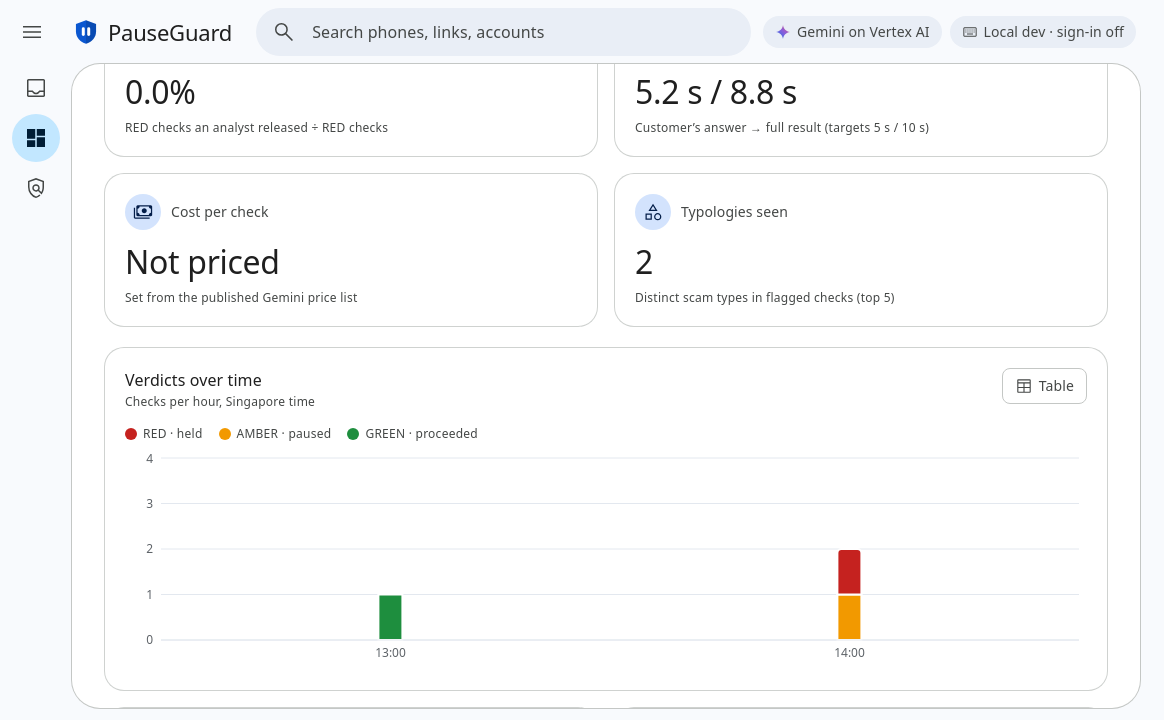
Scenario: the dashboard shows the KPI tiles and switches range
(page scrolled)
Check: the text "5.2 s / 8.8 s" is shown, box [635,70,797,113]
Check: the text "Not priced" is shown, box [125,240,280,283]
Step 1. Click the button with aria-label "Table view of Verdicts over time" → (1044,386), box [1002,368,1087,404]
(page scrolled)
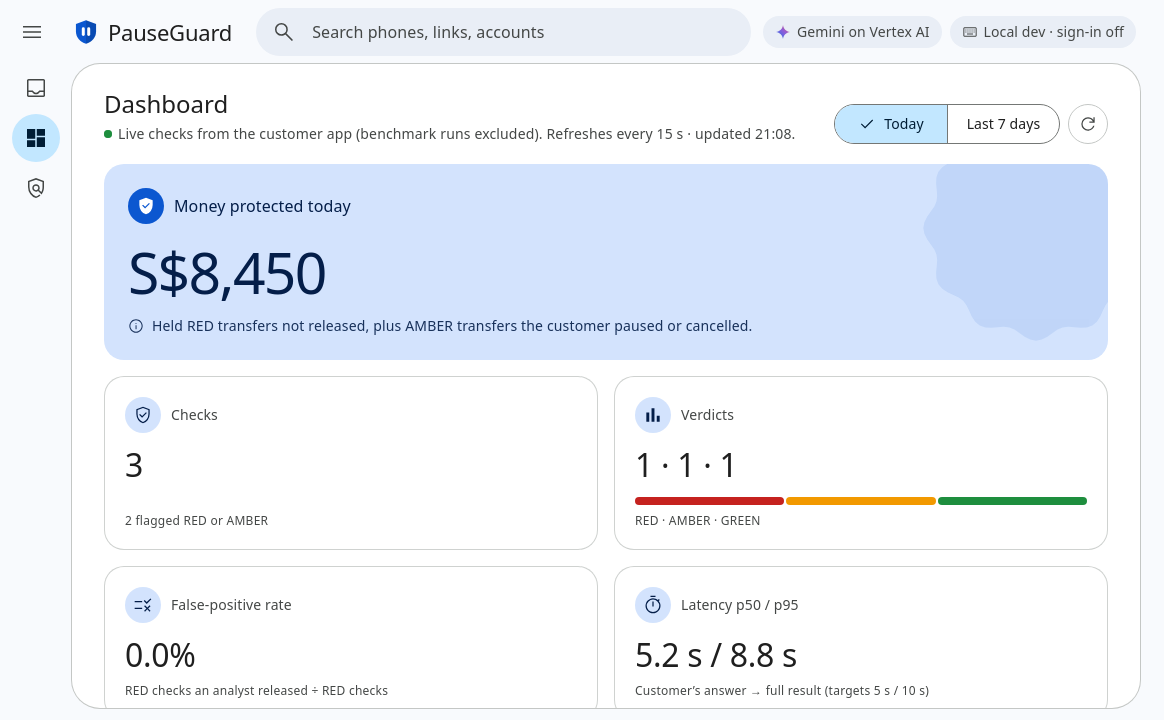
Step 2. Click the button "Last 7 days" → (1003,124), box [947,105,1059,143]
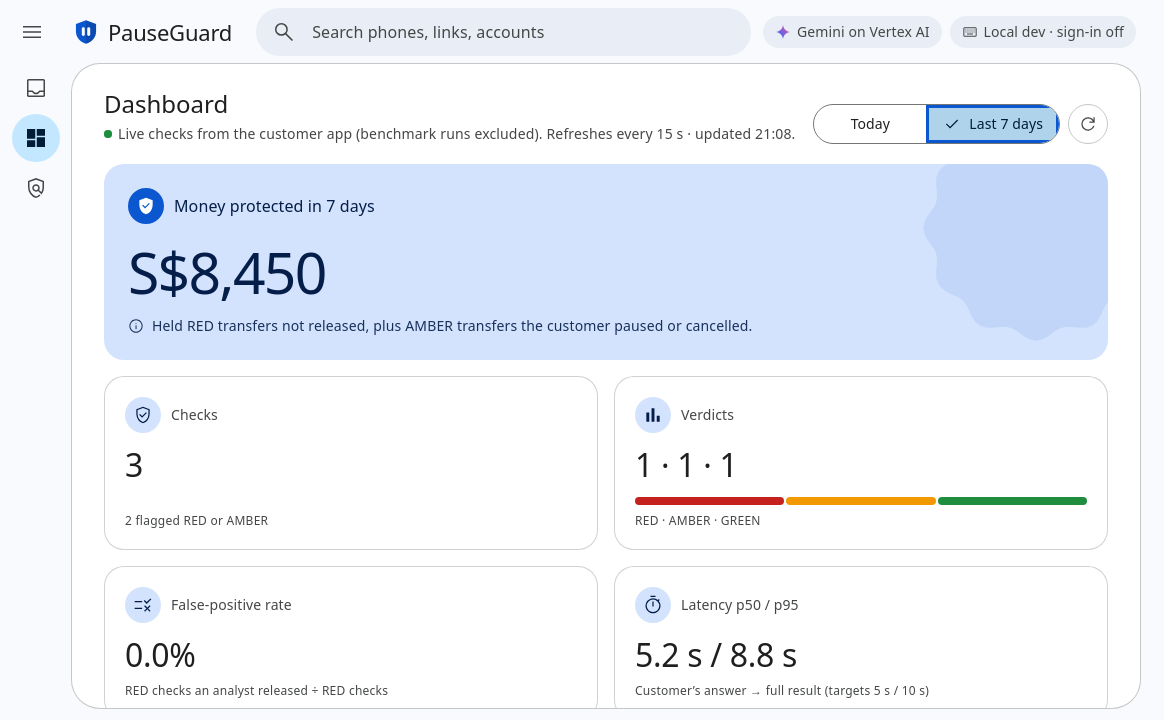
Check: the text "Money protected in 7 days" is shown, box [128,188,375,224]
